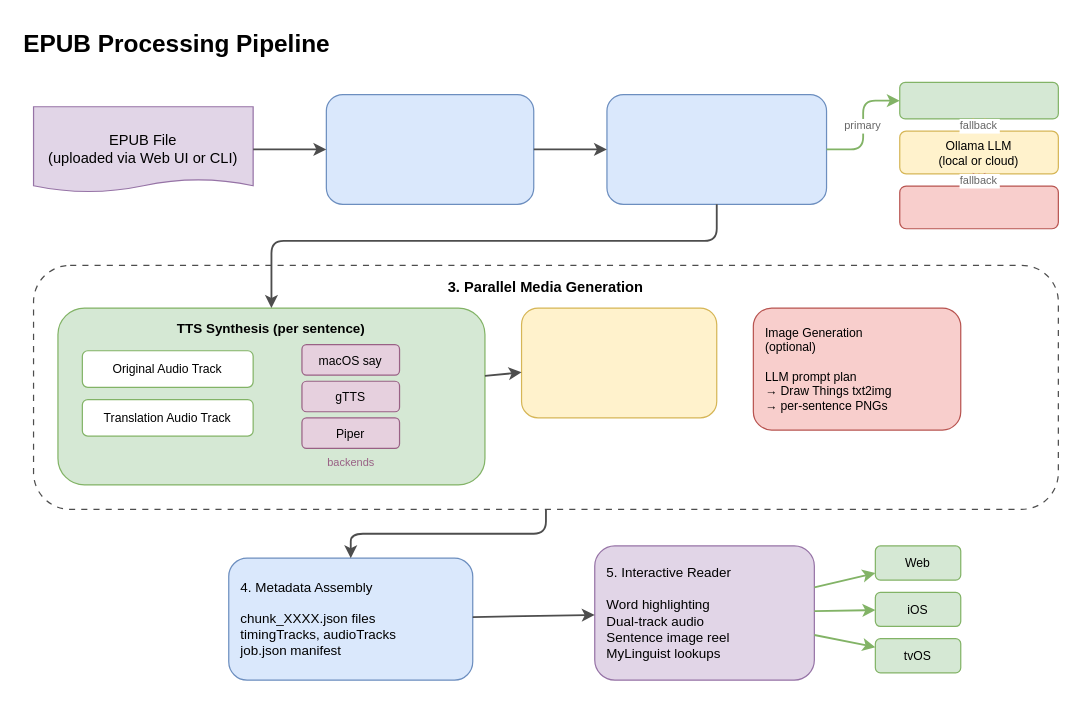
Image size: 1080x702. Some labels were removed from this diagram. Here are the shapes that lost their labels. From the top down, the centre of each, then its label:
the point at 978,100: Google Translate
the point at 429,148: 1. Ingestion Text extraction Sentence splitting Metadata enrichment
the point at 716,148: 2. Translation Per-sentence translation + optional transliteration
the point at 978,207: Fallback Model (gemma3:12b)
the point at 618,362: WhisperX Alignment (optional) Word-level timing when TTS lacks tokens
